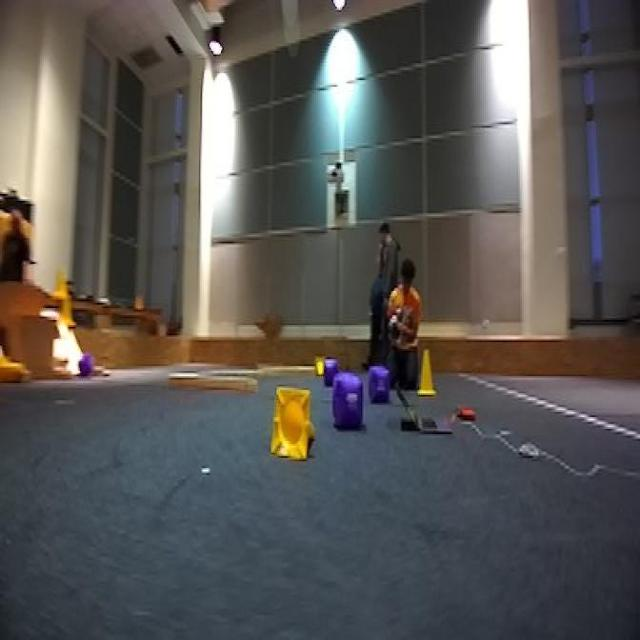frc_cone: (270, 384, 322, 470), (415, 349, 439, 398), (1, 354, 31, 385), (49, 264, 68, 303), (59, 293, 73, 332), (311, 356, 325, 376)
frc_cube: (334, 373, 365, 427), (367, 364, 392, 400), (76, 350, 92, 380), (322, 356, 340, 376)
